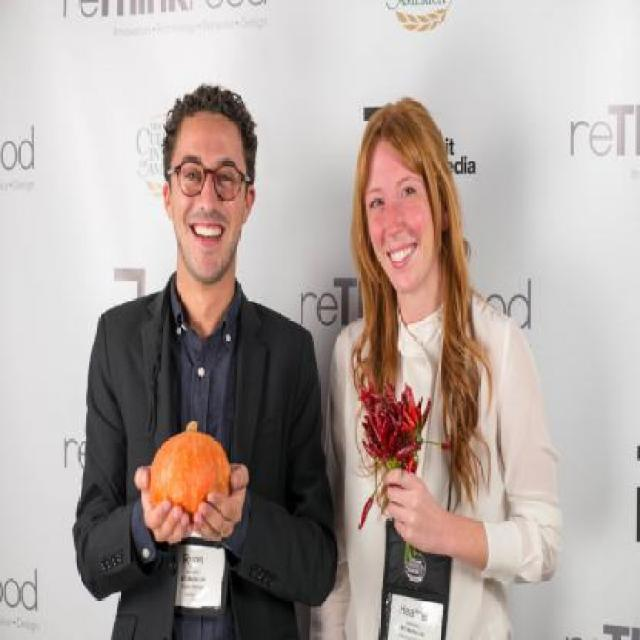Pumpkin: (148, 416, 238, 530)
